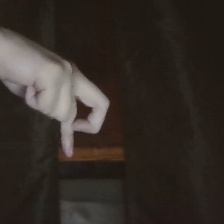P: (1, 20, 116, 167)
